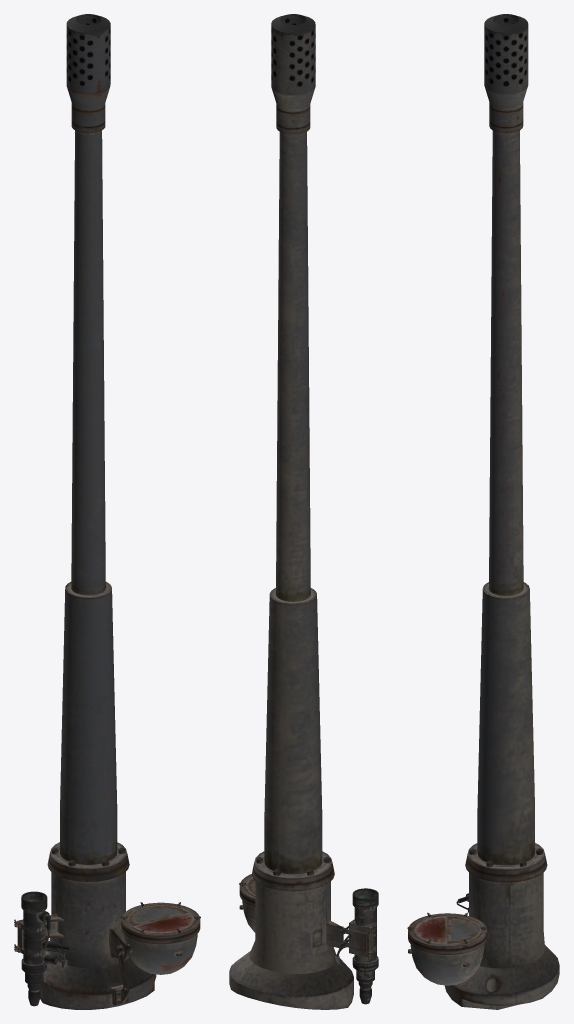
Rendered from Gun_03.glb.
3 renders of one model, left to right at view 1: azimuth 30°, elevation 25°; view 2: azimuth 150°, elevation 25°; view 3: azimuth 270°, elevation 25°, orthographic.
Parts seen in each view (by area): view 1: set_0_group_0; view 2: set_0_group_0; view 3: set_0_group_0.
Part boxes in pixels (x1,y1,x2,y2): set_0_group_0: (14,14,200,1009); set_0_group_0: (229,14,378,1009); set_0_group_0: (407,14,559,1009).
Size of the model in its own units: 1.01 by 6.1 by 0.8682.
Materials: 1 (1 with a texture image).
